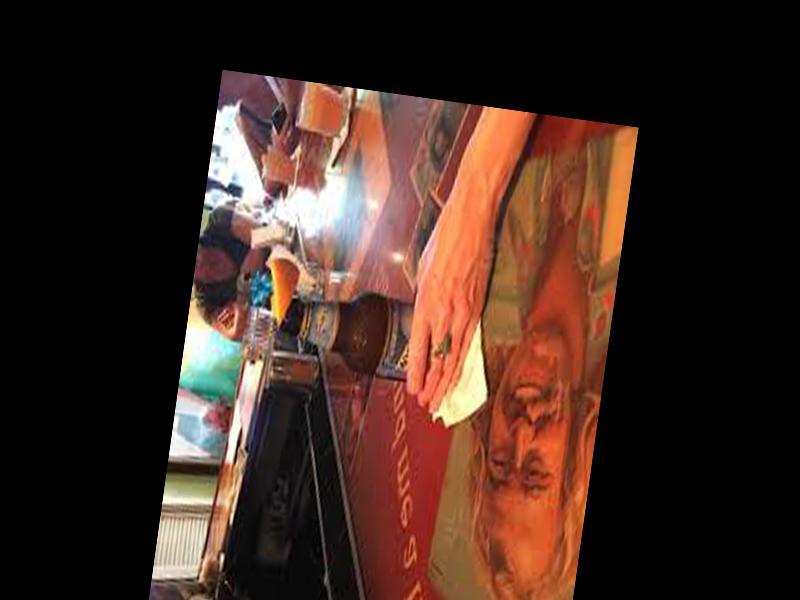Beer: (270, 285, 470, 392)
